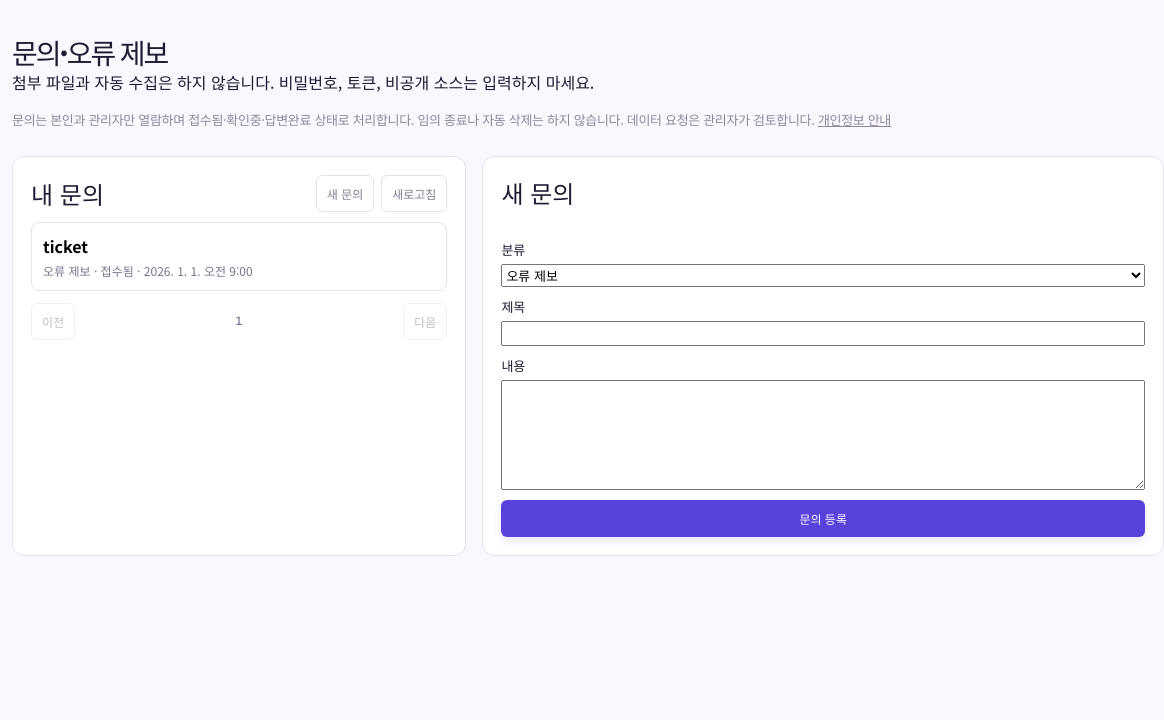
Scenario: SupportView › shows only the state and current answer to an ordinary user, without chat, close or delete
The width and height of the screenshot is (1164, 720).
Click the text "ticket". click: (65, 246)
box: left=43, top=234, right=88, bottom=258
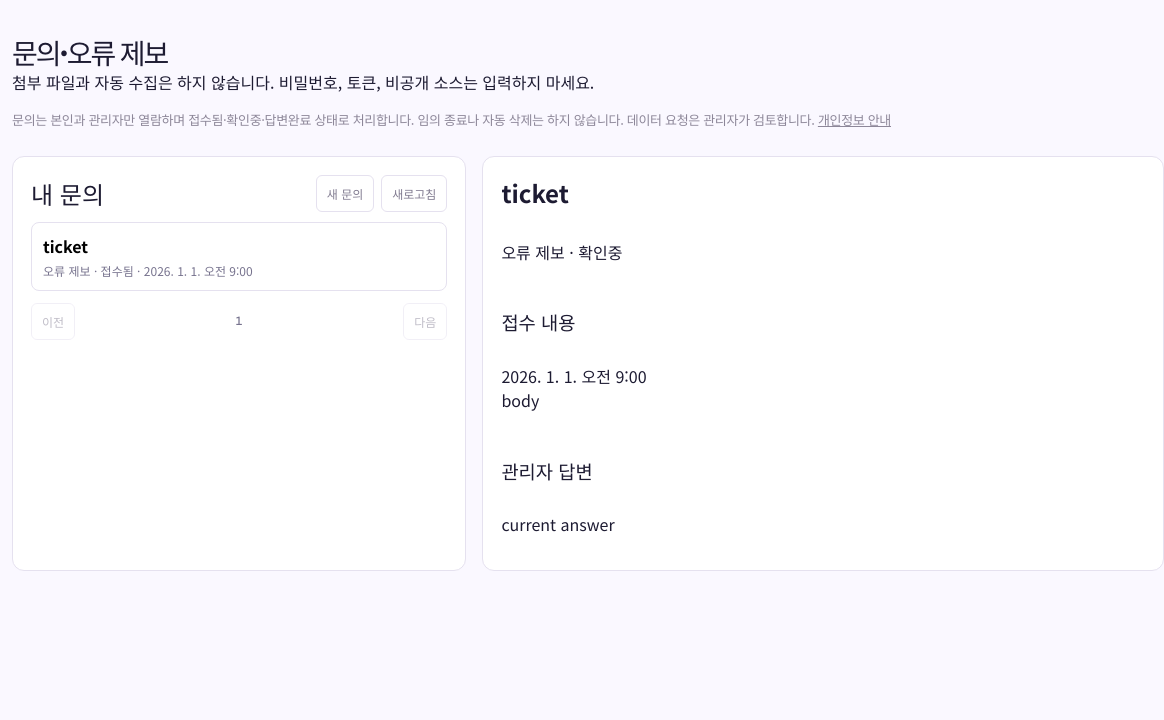
Expected: the heading "접수 내용" is shown, left=501, top=308, right=576, bottom=335
Expected: the text "current answer" is shown, left=501, top=512, right=615, bottom=536
Expected: the text "오류 제보 · 확인중" is shown, left=501, top=240, right=622, bottom=264
